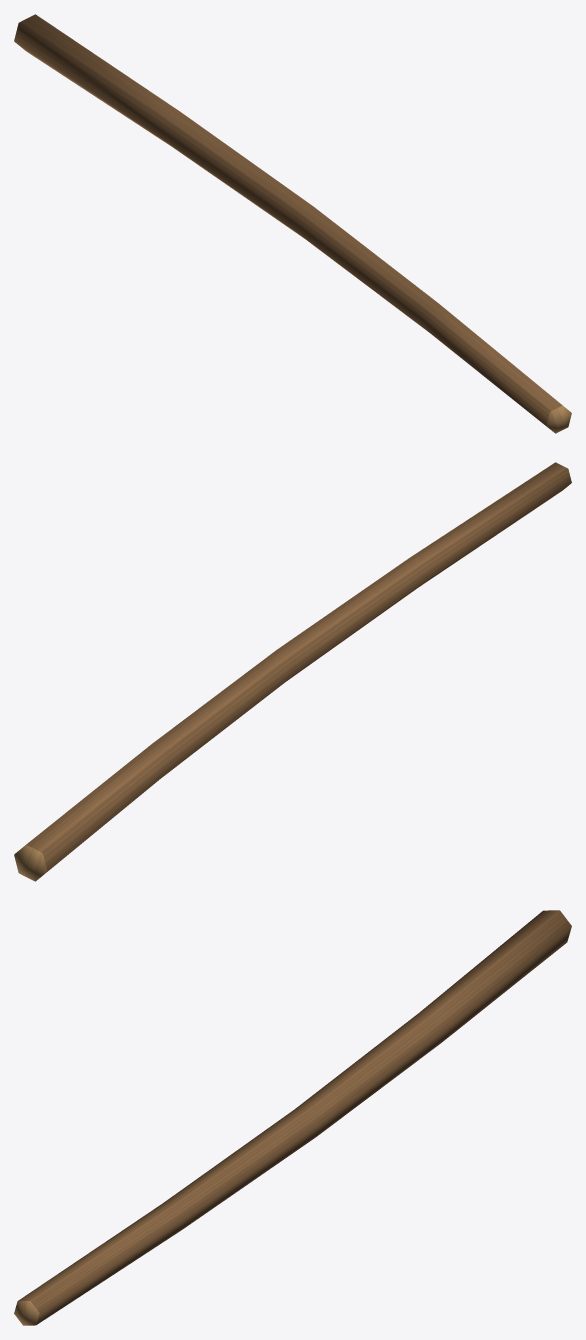
File: beating_stick.glb
3 views of the same model, one above another, from view 1: azimuth 30°, elevation 25°; view 2: azimuth 150°, elevation 25°; view 3: azimuth 330°, elevation 25° (orthographic).
Visible parts, largest first — view 1: BEATING_STICK; view 2: BEATING_STICK; view 3: BEATING_STICK.
Part boxes in pixels (bbox=[...]): BEATING_STICK: bbox=[14, 14, 571, 433]; BEATING_STICK: bbox=[14, 462, 571, 881]; BEATING_STICK: bbox=[14, 910, 571, 1325].
Size of the model in its own units: 0.045 by 0.0327 by 0.908.
Materials: 1 (1 with a texture image).
